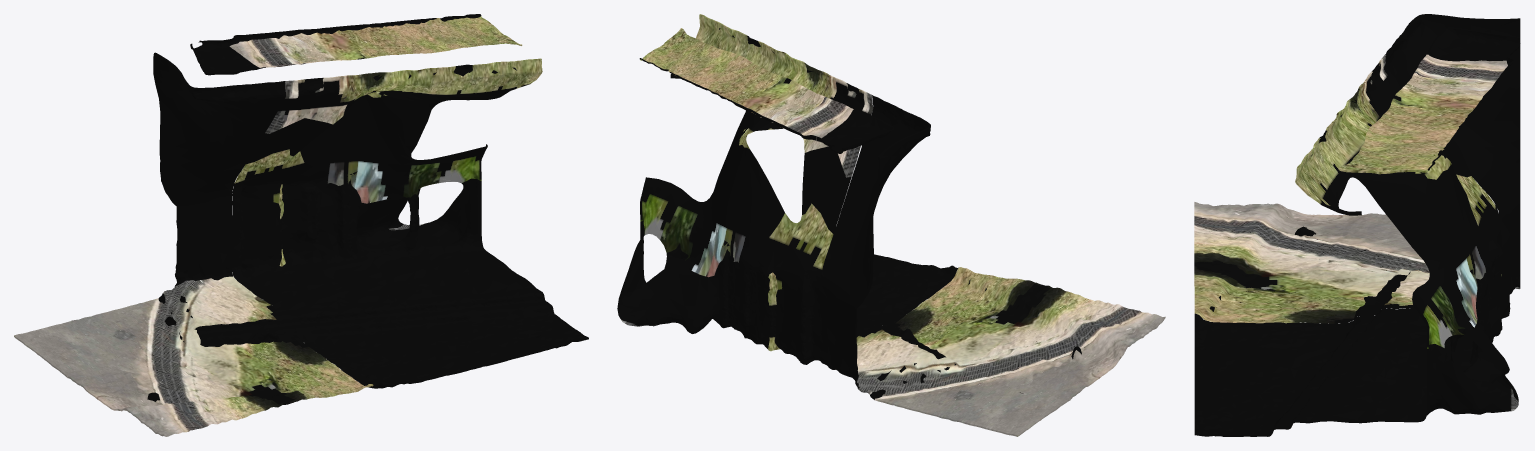
3 views of the same model, side by side, from view 1: azimuth 30°, elevation 25°; view 2: azimuth 150°, elevation 25°; view 3: azimuth 270°, elevation 25° (orthographic). The views are drawn at different scales.
Parts seen in each view (by area): view 1: node_96; view 2: node_96; view 3: node_96.
Part boxes in pixels (bbox=[...]): node_96: bbox=[14, 14, 588, 436]; node_96: bbox=[617, 14, 1165, 436]; node_96: bbox=[1194, 14, 1520, 436].
Size of the model in its own units: 8.99 by 5.12 by 5.52.
1 material, 1 textured.
